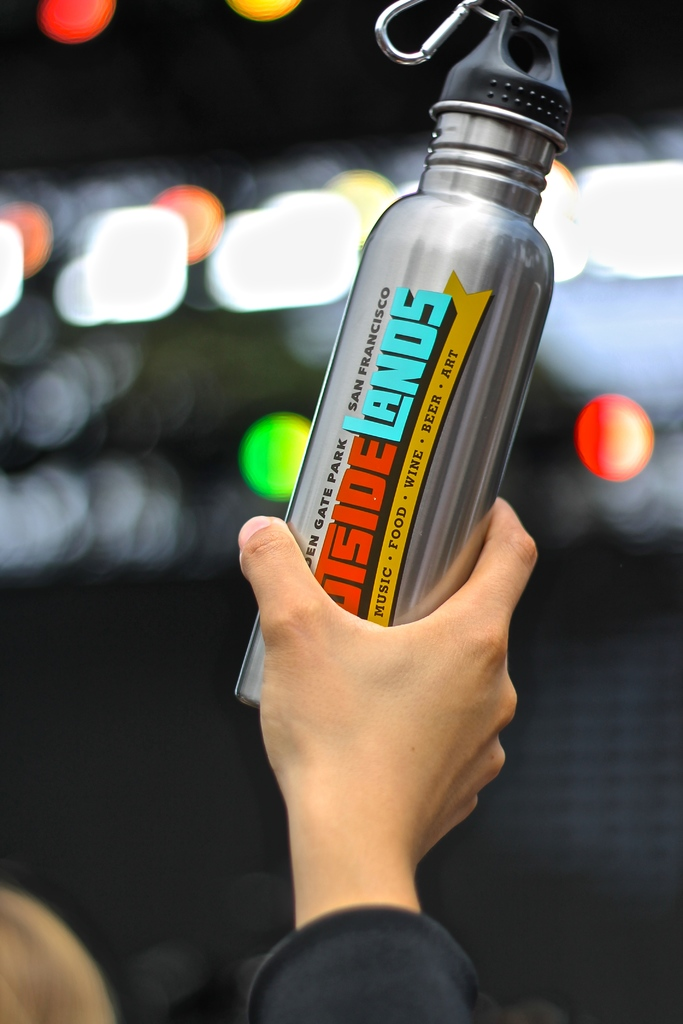Human_hand: (227, 508, 531, 925)
